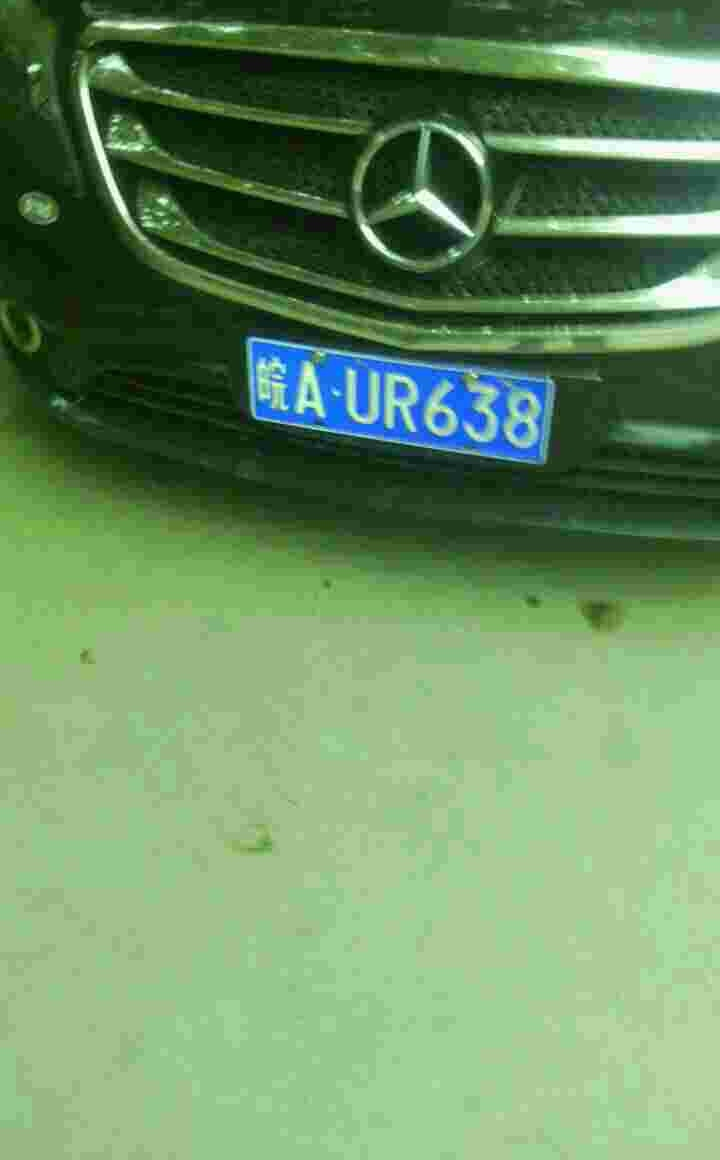license_plate: (239, 341, 561, 452)
